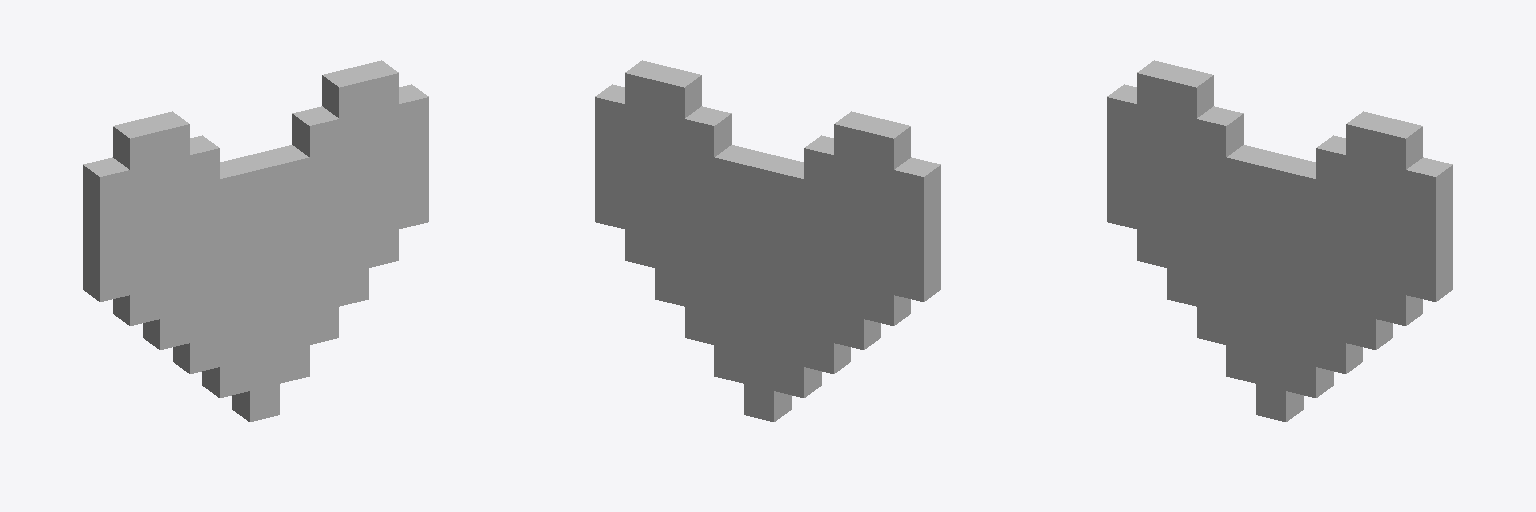
File: heart.obj
The picture shows the model from 3 angles: view 1: azimuth 30°, elevation 25°; view 2: azimuth 150°, elevation 25°; view 3: azimuth 330°, elevation 25°; orthographic projection.
Visible parts, largest first — view 1: object 1; view 2: object 1; view 3: object 1.
Boxes of the visible parts, box(x1,y1,x2,y2) form: object 1: box(83, 60, 428, 421); object 1: box(595, 60, 940, 421); object 1: box(1107, 60, 1452, 421).
Size of the model in its own units: 1.1 by 1 by 0.1.